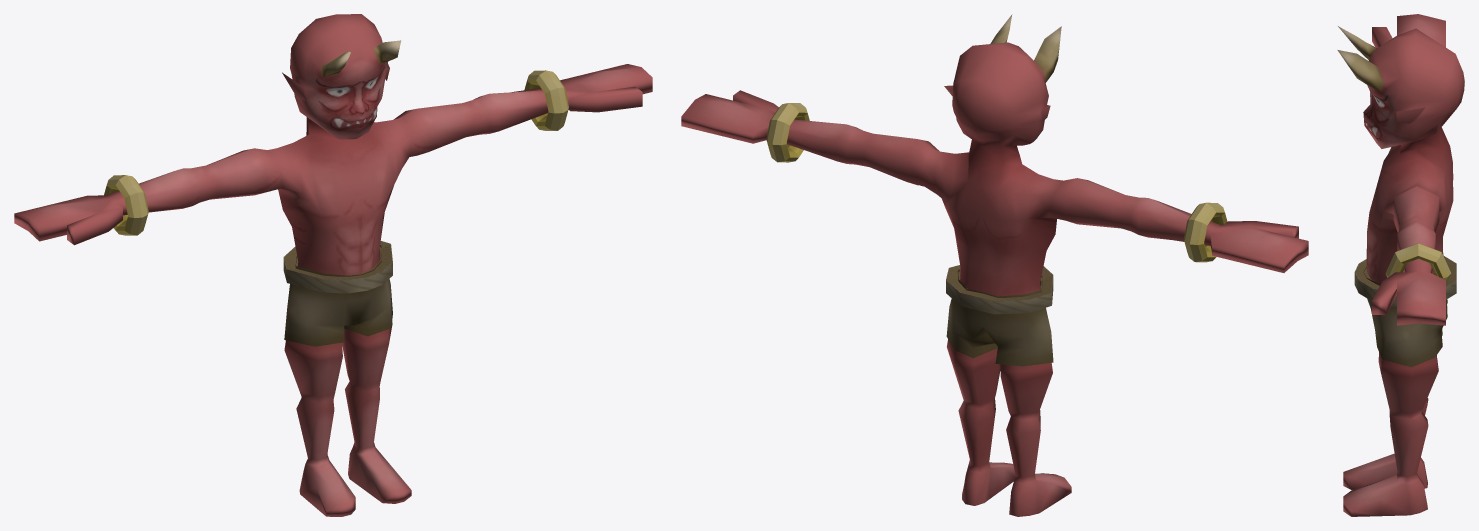
The model's file is Oni.fbx.
The picture shows the model from 3 angles, left to right: view 1: azimuth 30°, elevation 25°; view 2: azimuth 150°, elevation 25°; view 3: azimuth 270°, elevation 25°; orthographic projection.
Visible parts, largest first — view 1: polySurface49, pTorus1, pTorus2; view 2: polySurface49, pTorus1, pTorus2; view 3: polySurface49, pTorus1.
Part boxes in pixels (box(x1,y1,x2,y2)): polySurface49: box(14, 14, 652, 516); pTorus1: box(524, 70, 568, 130); pTorus2: box(104, 175, 148, 235); polySurface49: box(681, 14, 1308, 516); pTorus1: box(766, 103, 809, 162); pTorus2: box(1183, 202, 1227, 262); polySurface49: box(1337, 14, 1464, 516); pTorus1: box(1385, 243, 1451, 284).
Bounding box in the file's own units: 40.09 × 29.24 × 7.33.
Materials: 1 (1 with a texture image).
